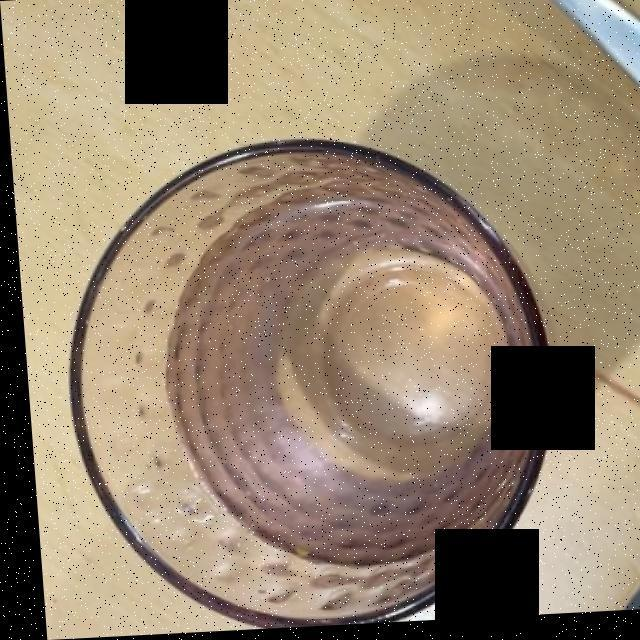water: (161, 199, 510, 575)
